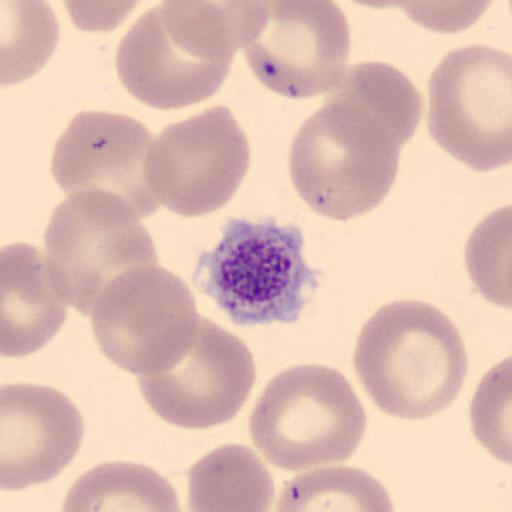Platelet: (196, 214, 323, 328)
RBC: (133, 310, 258, 432), (42, 187, 159, 317), (352, 296, 470, 423), (286, 99, 402, 223), (247, 360, 369, 472), (114, 2, 236, 112), (141, 102, 252, 220), (48, 106, 158, 224), (88, 263, 201, 376), (425, 42, 512, 174), (240, 0, 352, 102), (1, 381, 87, 491), (326, 59, 424, 150), (2, 240, 69, 358), (60, 458, 183, 512), (186, 441, 276, 512), (269, 464, 397, 512), (161, 0, 271, 52), (463, 201, 512, 310), (1, 0, 60, 89), (469, 354, 512, 468), (393, 0, 497, 35), (60, 0, 148, 34), (328, 0, 432, 10)
